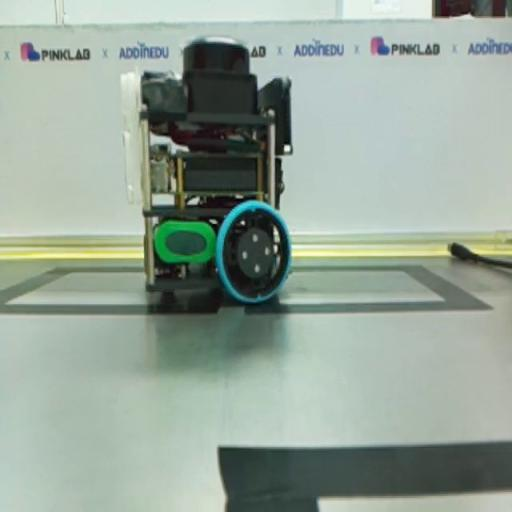pinky_63: (120, 35, 292, 304)
